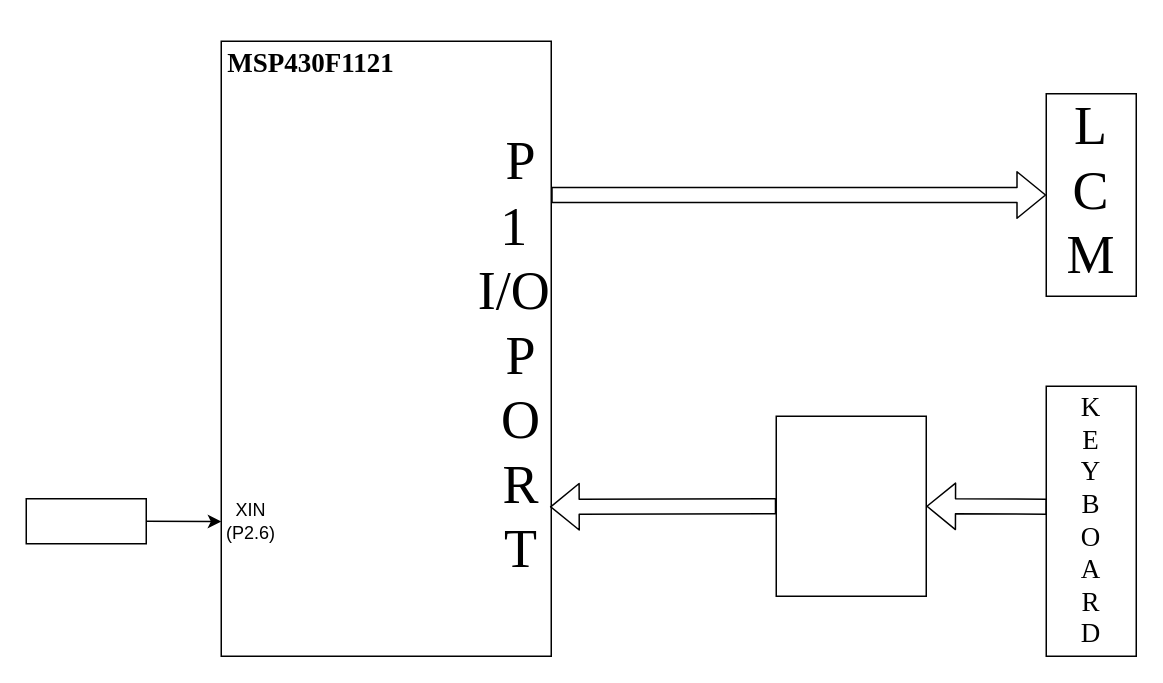
The diagram is 1163 pixels wide and 683 high, and some of its shapes have lost their labels. The shapes that lost their labels are listed below. From the top down, each one's centre as x and y in pixels, then its label:
[85,520]: CRYSTAL
[850,505]: MUX
